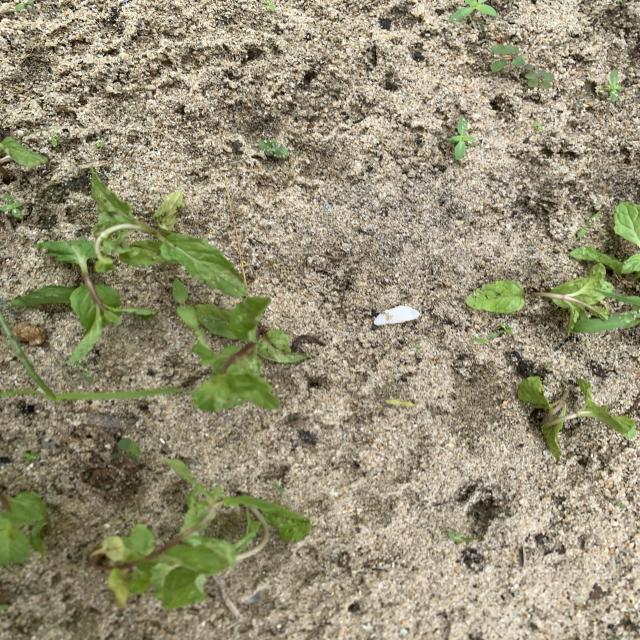crop: (92, 458, 310, 608), (90, 168, 247, 297), (531, 202, 640, 336), (12, 283, 156, 363), (193, 297, 289, 411), (518, 376, 636, 460), (0, 491, 49, 567), (37, 238, 96, 281), (466, 280, 531, 313)
weed: (0, 364, 164, 403), (490, 43, 555, 89), (445, 116, 482, 162), (450, 0, 498, 27), (595, 69, 625, 102), (384, 397, 415, 411)
